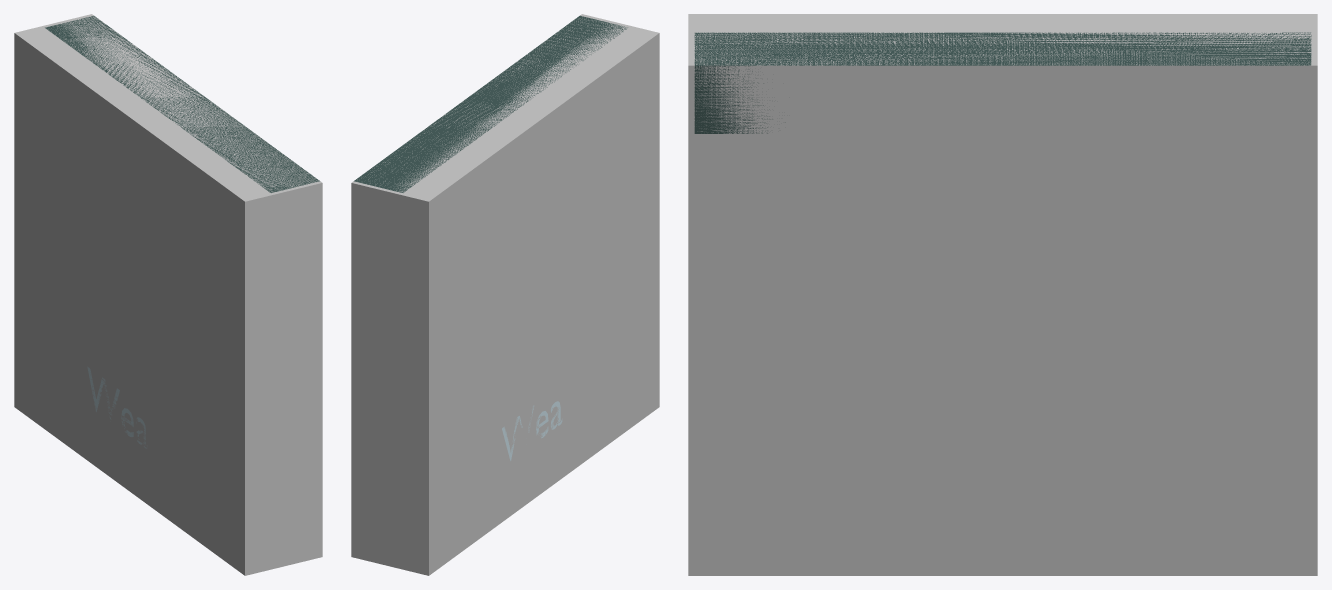
The model's file is SM_Gun_Shop_Shelf.fbx.
3 views of the same model, side by side, from view 1: azimuth 30°, elevation 25°; view 2: azimuth 150°, elevation 25°; view 3: azimuth 270°, elevation 25° (orthographic). The views are drawn at different scales.
Visible parts, largest first — view 1: SM_Gun_Shop_Shelf_ConvexHulls, SM_Gun_Shop_Shelf; view 2: SM_Gun_Shop_Shelf_ConvexHulls, SM_Gun_Shop_Shelf; view 3: SM_Gun_Shop_Shelf_ConvexHulls, SM_Gun_Shop_Shelf.
Boxes of the visible parts, <box> form: SM_Gun_Shop_Shelf_ConvexHulls: <box>14,14,322,575</box>; SM_Gun_Shop_Shelf: <box>45,16,319,448</box>; SM_Gun_Shop_Shelf_ConvexHulls: <box>351,14,659,575</box>; SM_Gun_Shop_Shelf: <box>354,15,627,460</box>; SM_Gun_Shop_Shelf_ConvexHulls: <box>688,14,1317,575</box>; SM_Gun_Shop_Shelf: <box>694,32,1311,133</box>.
Bounding box in the file's own units: 66.29 × 342 × 306.
